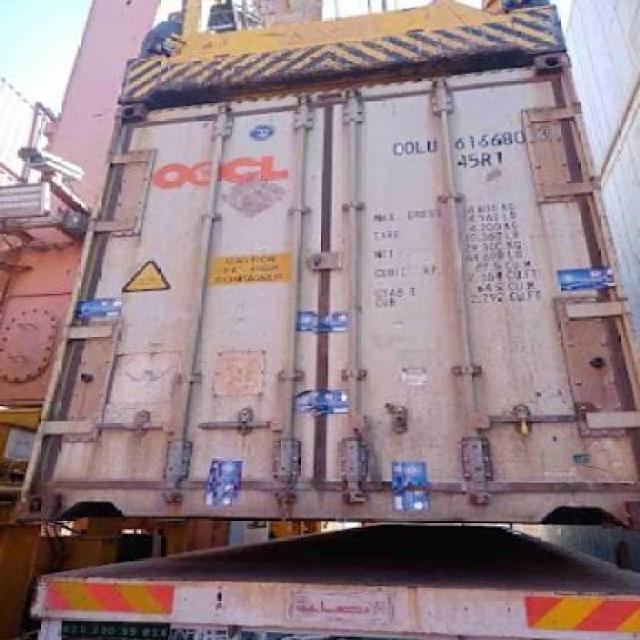ISO: (451, 150, 509, 172)
container_number: (388, 128, 555, 152)
